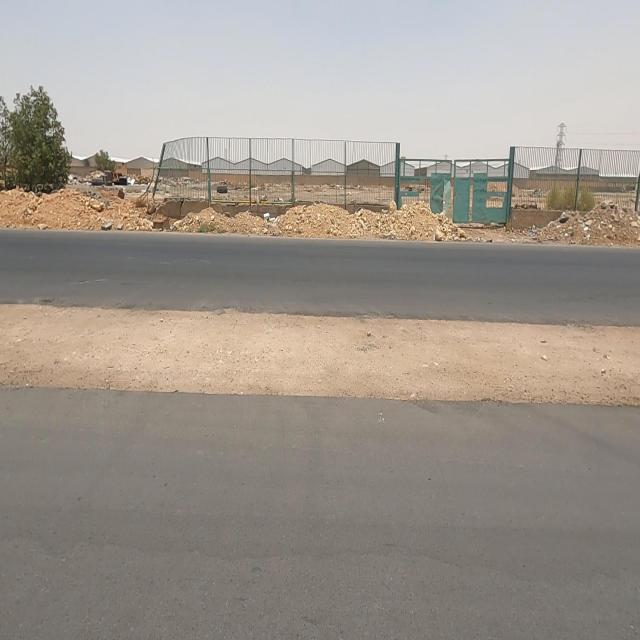debris: (194, 159, 252, 217), (240, 184, 288, 236), (70, 179, 118, 229), (88, 203, 138, 243)
